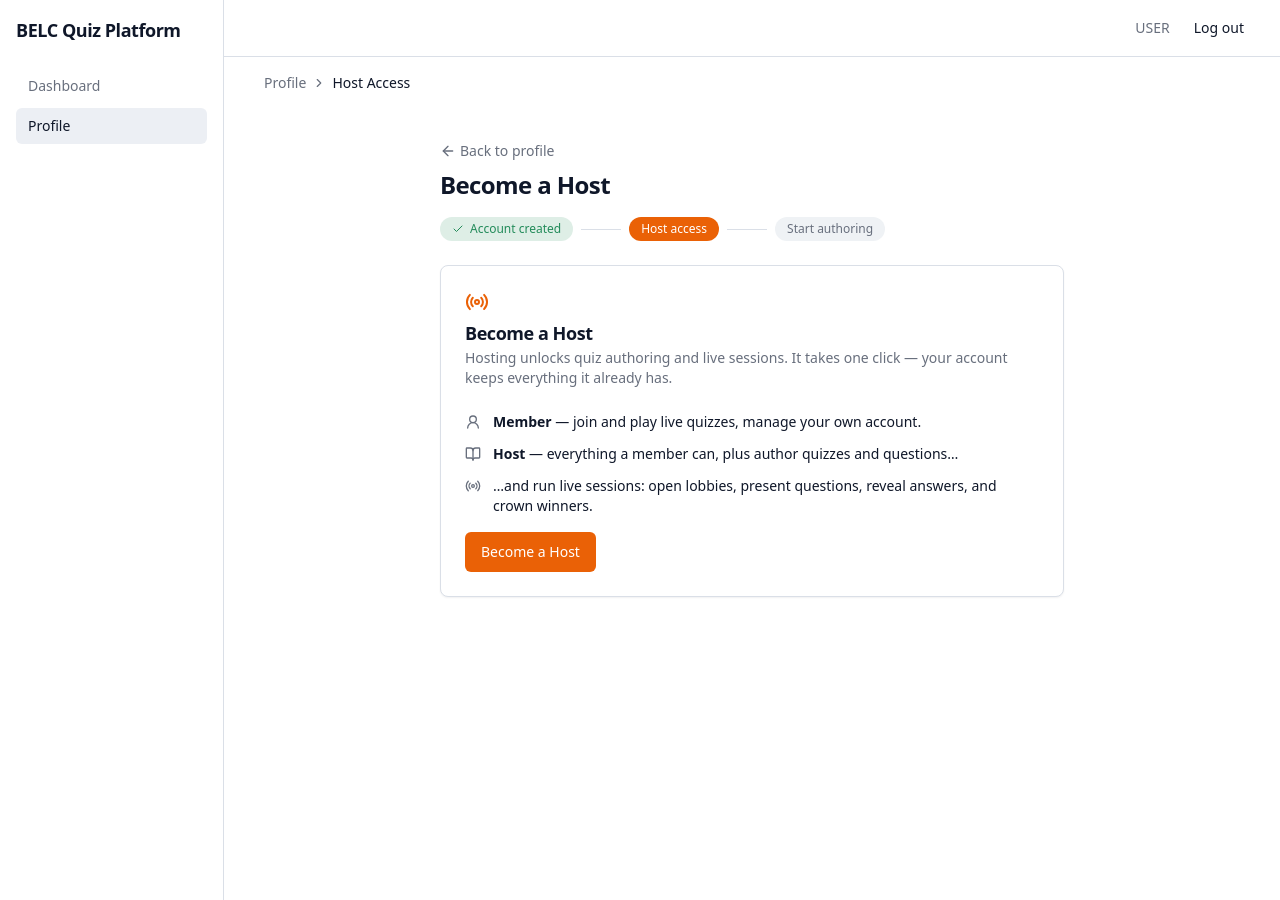
Test: host onboarding › promotes a member to host and every role-aware surface follows
Click the button "Become a Host". click: (530, 552)
box: [465,532,596,572]
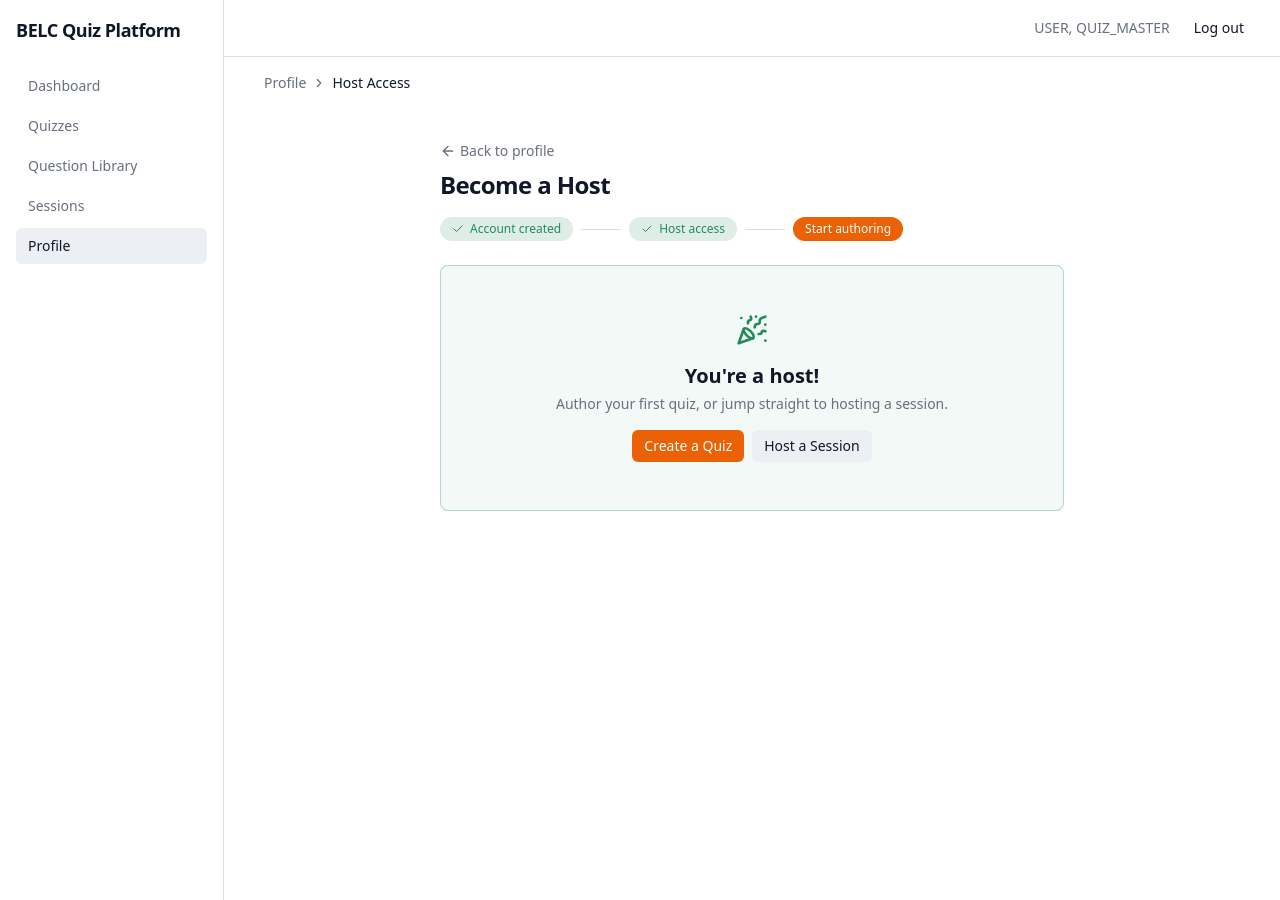
expect the link "Quizzes" is shown: met, box [28,116,79,135]
expect the heading "You're a host!" is shown: met, box [685,362,819,389]
